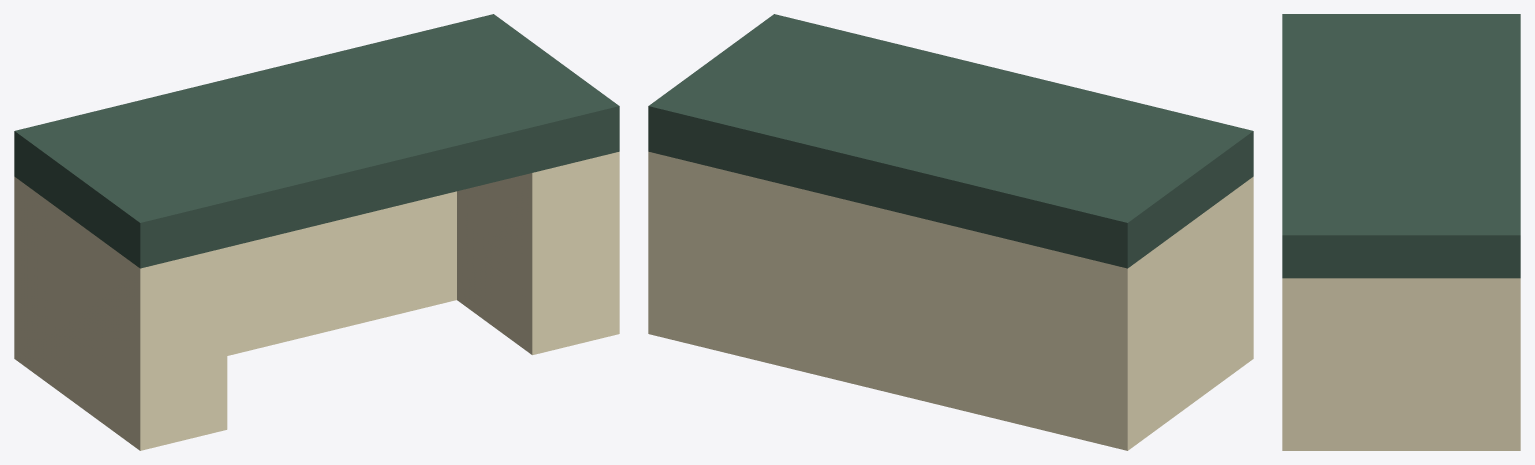
Rendered from deskStudent.obj.
The picture shows the model from 3 angles, left to right: view 1: azimuth 30°, elevation 25°; view 2: azimuth 150°, elevation 25°; view 3: azimuth 270°, elevation 25°; orthographic projection. The views are drawn at different scales.
Bounding box in the file's own units: 11 × 5 × 5.
Materials: 1 (1 with a texture image).
